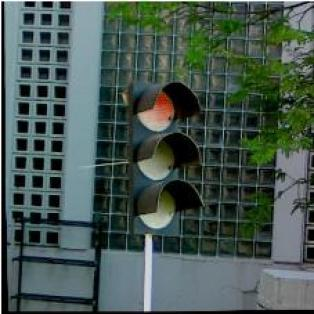Semaforo Rojo: (123, 80, 203, 235)
